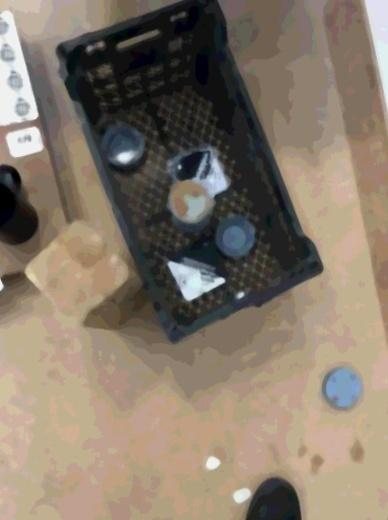corrosive: (165, 234, 230, 303), (165, 143, 228, 196)
